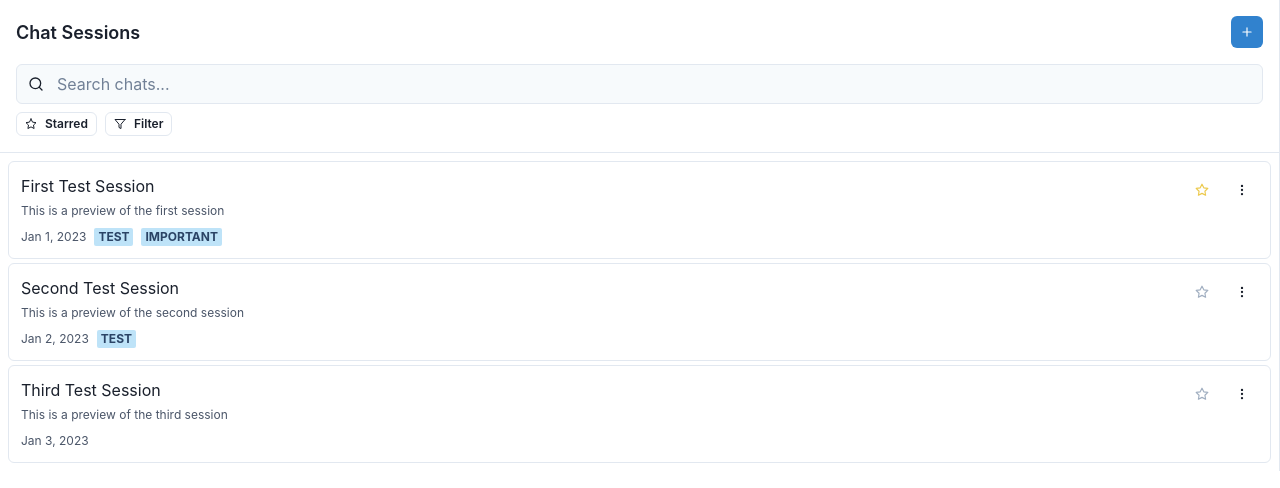
Test case: Session Management › SessionBrowser Component › should allow filtering by starred sessions
Expected: the text "First Test Session" is shown, [21, 174, 154, 198]
# Click the starred filter button
Click the button with test id "starred-filter-button" at (56, 124), box [16, 112, 97, 136]
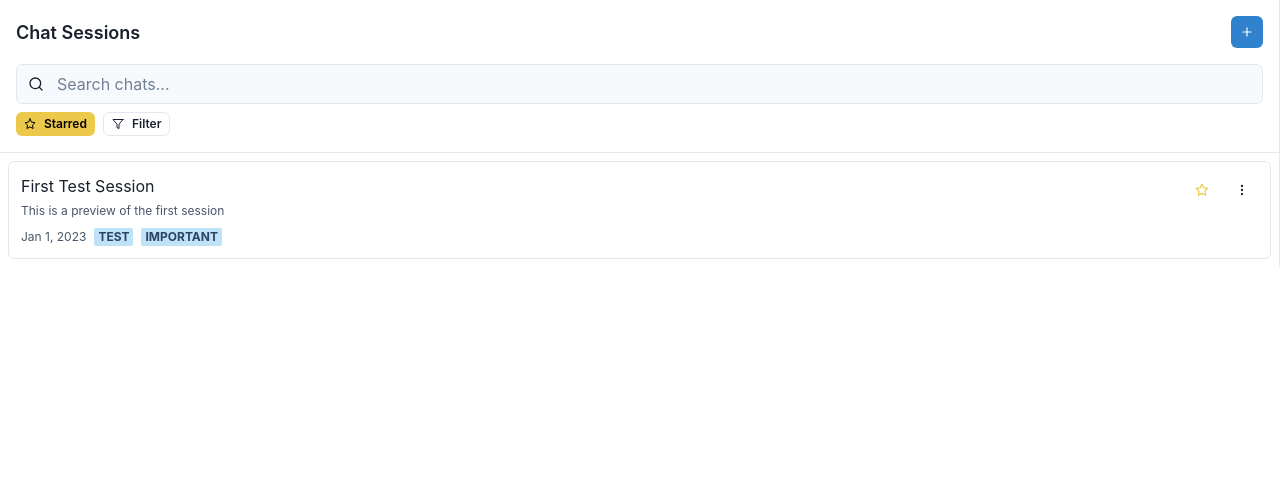
Expected: the text "First Test Session" is shown, [21, 174, 154, 198]
Result: the text "Second Test Session" is gone
Result: the text "Third Test Session" is gone
